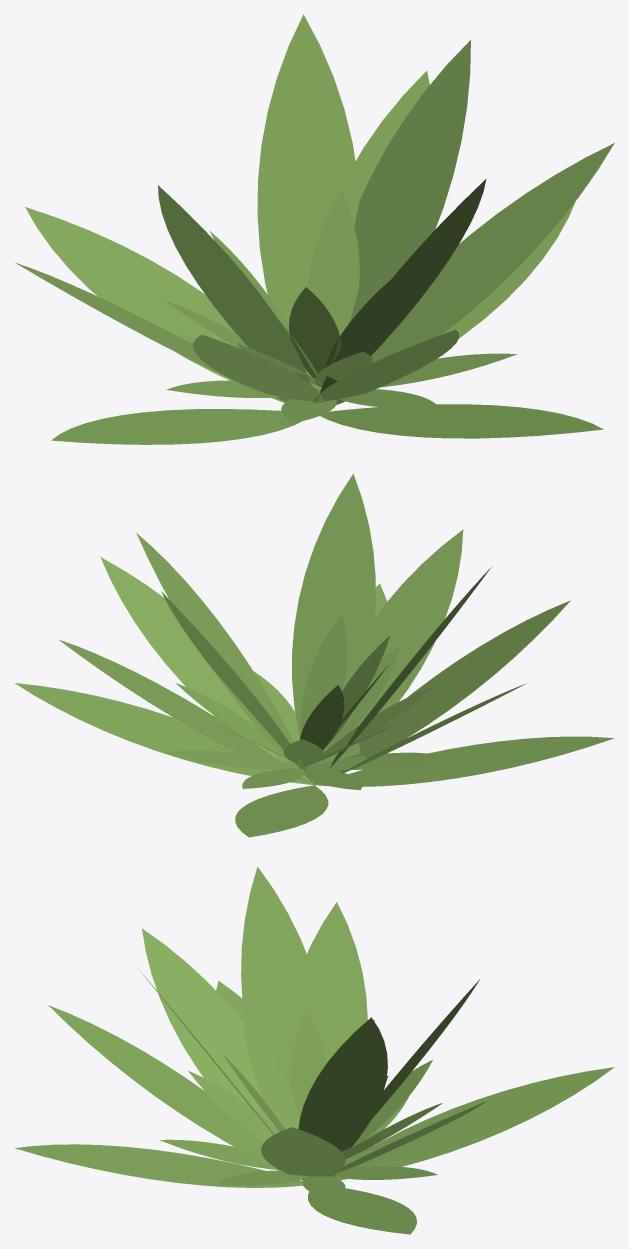
The model's file is Bush_Grassland_02.fbx.
The picture shows the model from 3 angles, top to bottom: view 1: azimuth 30°, elevation 25°; view 2: azimuth 150°, elevation 25°; view 3: azimuth 270°, elevation 25°; orthographic projection. The views are drawn at different scales.
Visible parts, largest first — view 1: Model; view 2: Model; view 3: Model.
Part boxes in pixels (x1,y1,x2,y2): Model: [15, 14, 614, 444]; Model: [14, 473, 613, 837]; Model: [14, 866, 614, 1234].
Size of the model in its own units: 299 by 133 by 299.
